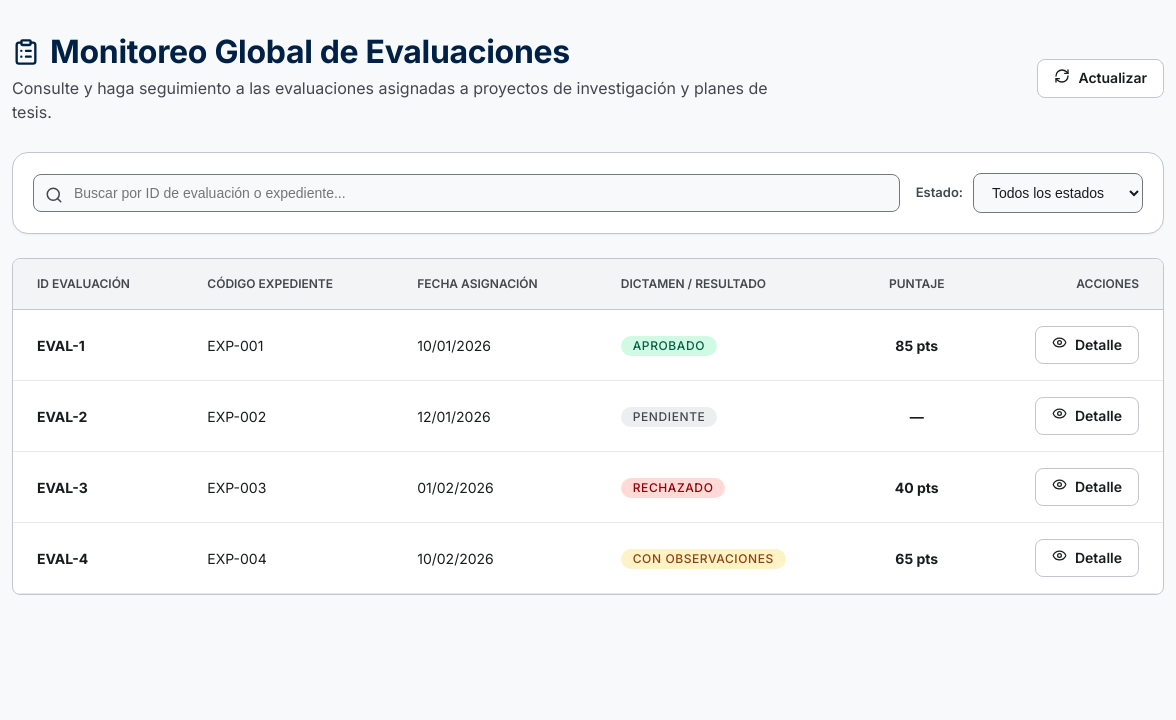
Test: DirectorEvaluations › filters by status - RECHAZADO
This screenshot has width=1176, height=720.
Expected: the text "EXP-001" is shown, [183,310,393,380]
Select "Rechazados" in the dropdown at [1058, 193], box [973,173,1143,213]
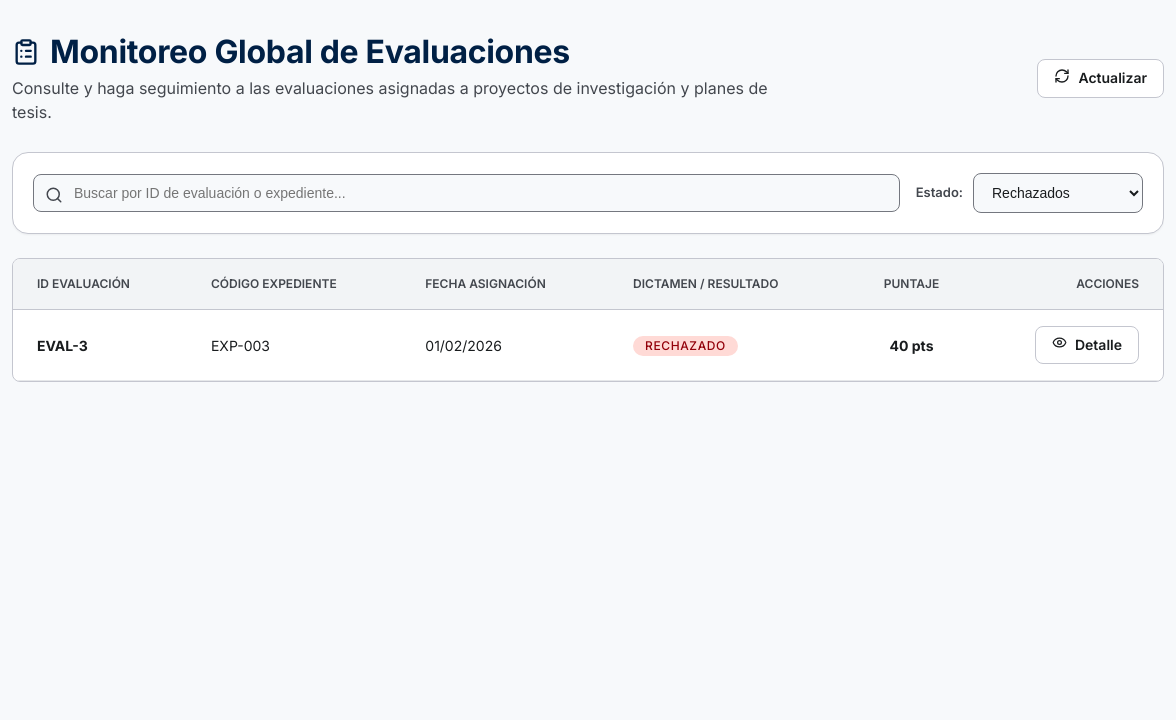
Expected: the text "EXP-003" is shown, [187,310,401,380]
Expected: the text "EXP-001" is gone
